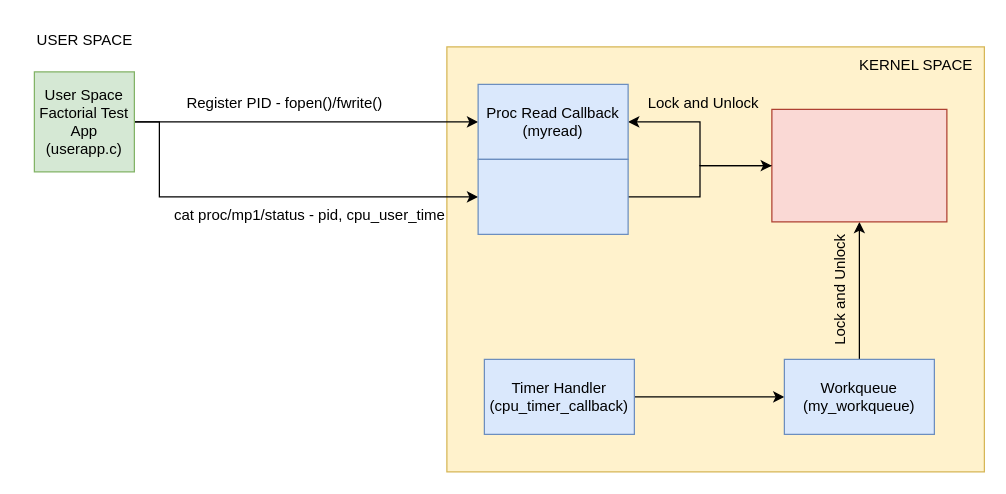
Image size: 1006x494. Some labels were removed from this diagram. The centre of each missing label's shape, as x and y in pixels:
Kernel Linked List (registered_process_list): pixel 859 165
Proc Write Callback (mywrite): pixel 552 196
